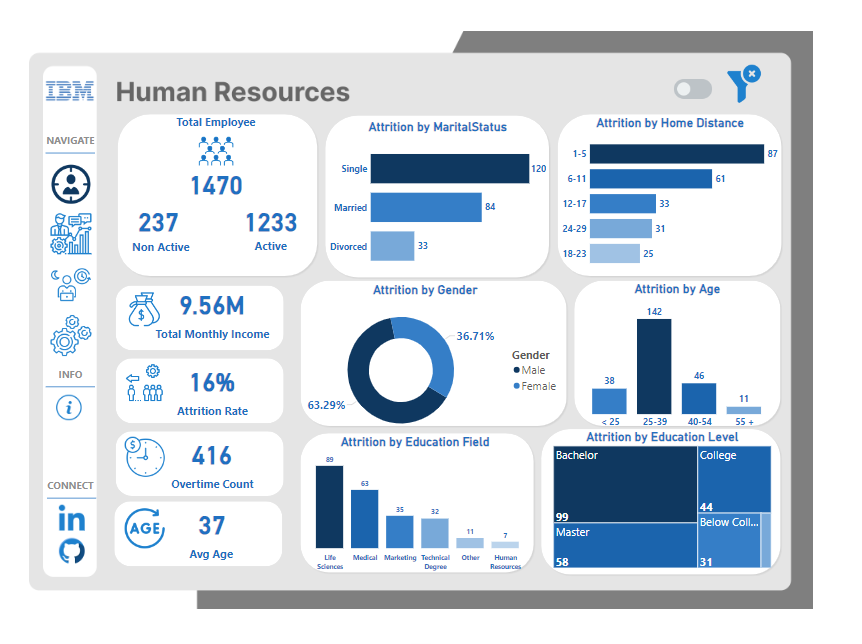

This screenshot's page, from the dashboard's own definition file:
{"tool":"powerbi","page":{"name":"Demographics","canvas":[1900,1400],"ordinal":0},"visuals":[{"type":"shape","box":[1275,197.5,552.5,402.5],"z":0,"group":"g6"},{"type":"shape","box":[210,198.5,493.6,402.5],"z":0,"group":"g1"},{"type":"shape","box":[712.5,200,552.5,402.5],"z":0,"group":"g7"},{"type":"shape","box":[652.5,600.8,655,362.5],"z":0,"group":"g8"},{"type":"shape","box":[1317.5,600.8,510,362.5],"z":0,"group":"g9"},{"type":"shape","box":[210,615.6,407.5,157.5],"z":0,"group":"g2"},{"type":"shape","box":[210,792.5,407.5,157.5],"z":0,"group":"g3"},{"type":"shape","box":[1237.5,960,590,362.5],"z":0},{"type":"shape","box":[210,968.4,407.5,157.5],"z":0,"group":"g4"},{"type":"shape","box":[652.5,970,575,347.5],"z":0,"group":"g10"},{"type":"shape","box":[40,1121,120,25],"z":0,"group":"g11"},{"type":"shape","box":[208,1140.5,407.5,157.5],"z":0,"group":"g5"},{"type":"group","id":"g1","title":"Group 1","box":[210,198,494,404],"z":1000},{"type":"clusteredBarChart","title":"Attrition by Home Distance","fields":{"Y":["Dax_Measure.# Attrition employees"],"Category":["Employee (Fact).Distance from Home Category"]},"box":[1285,205,535,390],"z":1000,"group":"g6"},{"type":"clusteredBarChart","title":"Attrition by MaritalStatus","fields":{"Category":["MaritalStatus (Dim).MaritalStatus"],"Y":["Dax_Measure.# Attrition employees"]},"box":[722.5,212.5,535,390],"z":1000,"group":"g7"},{"type":"card","title":"Employee","fields":{"Values":["Dax_Measure.Total Employees"]},"box":[367.9,318,171.7,98],"z":1000,"group":"g1"},{"type":"clusteredColumnChart","title":"Attrition by Age","fields":{"Category":["Employee (Fact).Age Group"],"Y":["Dax_Measure.# Attrition employees"]},"box":[1317.5,605.8,510,365],"z":1000,"group":"g9"},{"type":"donutChart","title":"Attrition by Gender","fields":{"Y":["Dax_Measure.# Attrition employees"],"Category":["Gender (Dim).Gender"]},"box":[627.5,610.8,667.5,390],"z":1000,"group":"g8"},{"type":"card","fields":{"Values":["Dax_Measure.Total Monthly Income"]},"box":[316.8,612.5,252.5,87.5],"z":1000,"group":"g2"},{"type":"card","fields":{"Values":["Dax_Measure.Attrition Rate"]},"box":[316.8,799.7,252.5,87.5],"z":1000,"group":"g3"},{"type":"clusteredColumnChart","title":"Attrition by Education Field","fields":{"Y":["Dax_Measure.# Attrition employees"],"Category":["EducationField (Dim).EducationField"]},"box":[642.5,975,585,340],"z":1000,"group":"g10"},{"type":"card","fields":{"Values":["Dax_Measure.NoEmployees Working Overtime"]},"box":[316.8,975.6,252.5,87.5],"z":1000,"group":"g4"},{"type":"textbox","box":[35,1081,127.5,60],"z":1000,"group":"g11"},{"type":"card","fields":{"Values":["Dax_Measure.JobSatisfaction"]},"box":[317.1,1147.5,252,87.5],"z":1000,"group":"g5"},{"type":"card","fields":{"Values":["Dax_Measure.# Current employees"]},"box":[498.6,408.5,171.7,98],"z":2000,"group":"g1"},{"type":"group","id":"g2","title":"Group 2","box":[210,612.5,407.5,160.6],"z":2000},{"type":"image","box":[234.2,622.5,92.5,102.5],"z":2000,"group":"g2"},{"type":"textbox","box":[281.8,894.7,322.5,47.5],"z":2000,"group":"g3"},{"type":"textbox","box":[281.8,1070.6,322.5,47.5],"z":2000,"group":"g4"},{"type":"image","box":[40.6,1144.4,120,72.5],"z":2000,"group":"g11"},{"type":"textbox","box":[281.8,1242.7,322.5,47.5],"z":2000,"group":"g5"},{"type":"card","fields":{"Values":["Dax_Measure.# Attrition employees"]},"box":[247.2,408.5,132.8,98],"z":3000,"group":"g1"},{"type":"textbox","box":[281.8,707.5,322.5,47.5],"z":3000,"group":"g2"},{"type":"group","id":"g3","title":"Group 3","box":[210,792.5,407.5,157.5],"z":3000},{"type":"image","box":[227.9,800,105,105],"z":3000,"group":"g3"},{"type":"image","box":[225,972.5,107.5,117.5],"z":3000,"group":"g4"},{"type":"image","box":[227.5,1147.5,107.5,117.5],"z":3000,"group":"g5"},{"type":"image","box":[40.6,1224.4,120,72.5],"z":3000,"group":"g11"},{"type":"textbox","box":[321,198,265.6,70],"z":4000,"group":"g1"},{"type":"group","id":"g4","title":"Group 4","box":[210,968.4,407.5,157.5],"z":4000},{"type":"image","box":[406.8,242,93.8,102],"z":5000,"group":"g1"},{"type":"group","id":"g5","title":"Group 5","box":[208,1140.5,407.5,157.5],"z":5000},{"type":"textbox","box":[241.9,500.5,159.4,70],"z":6000,"group":"g1"},{"type":"treemap","title":"Attrition by Education Level","fields":{"Group":["EducationLevel (Dim).Education_level"],"Values":["Dax_Measure.# Attrition employees"]},"box":[1265,965,537.5,340],"z":6000},{"type":"group","id":"g6","title":"Group 6","box":[1275,197.5,552.5,402.5],"z":7000},{"type":"textbox","box":[521.6,497.5,131,70],"z":7000,"group":"g1"},{"type":"group","id":"g7","title":"Group 7","box":[712.5,200,552.5,402.5],"z":8000},{"type":"group","id":"g8","title":"Group 8","box":[627.5,600.8,680,400],"z":9000},{"type":"group","id":"g9","title":"Group 9","box":[1317.5,600.8,510,370],"z":10000},{"type":"group","id":"g10","title":"Group 10","box":[642.5,970,585,347.5],"z":11000},{"type":"image","box":[36,560.1,130,110],"z":13000},{"type":"image","box":[36,437.7,130,110],"z":14000},{"type":"textbox","box":[35,244,127.5,60],"z":15000},{"type":"shape","box":[40,284,120,25],"z":16000},{"type":"image","box":[36,682.5,130,110],"z":17000},{"type":"shape","box":[40,851,120,25],"z":18000},{"type":"textbox","box":[35,811,127.5,60],"z":19000},{"type":"image","box":[37.5,877.5,120,72],"z":20000},{"type":"group","id":"g11","title":"Group 11","box":[35,1081,127.5,215.9],"z":21000},{"type":"image","box":[1662.5,77.5,140,102.5],"z":22000},{"type":"image","box":[1552.5,65,112.5,147.5],"z":26000},{"type":"image","box":[36,315,130,110],"z":27000}]}

Visuals, with their boxes on the page's 1900x1400 design canvas (x1, y1, x2, y2). These are canvas units, not pixel positions in the 862x644 screenshot, which may show the page scaled, cropped or inside an application window:
shape: rect(1275, 198, 1828, 600)
shape: rect(210, 198, 704, 601)
shape: rect(712, 200, 1265, 602)
shape: rect(652, 601, 1308, 963)
shape: rect(1318, 601, 1828, 963)
shape: rect(210, 616, 618, 773)
shape: rect(210, 792, 618, 950)
shape: rect(1238, 960, 1828, 1322)
shape: rect(210, 968, 618, 1126)
shape: rect(652, 970, 1228, 1318)
shape: rect(40, 1121, 160, 1146)
shape: rect(208, 1140, 616, 1298)
"Group 1" group: rect(210, 198, 704, 602)
"Attrition by Home Distance" clusteredBarChart: rect(1285, 205, 1820, 595)
"Attrition by MaritalStatus" clusteredBarChart: rect(722, 212, 1258, 602)
"Employee" card: rect(368, 318, 540, 416)
"Attrition by Age" clusteredColumnChart: rect(1318, 606, 1828, 971)
"Attrition by Gender" donutChart: rect(628, 611, 1295, 1001)
card - Dax_Measure.Total Monthly Income: rect(317, 612, 569, 700)
card - Dax_Measure.Attrition Rate: rect(317, 800, 569, 887)
"Attrition by Education Field" clusteredColumnChart: rect(642, 975, 1228, 1315)
card - Dax_Measure.NoEmployees Working Overtime: rect(317, 976, 569, 1063)
textbox: rect(35, 1081, 162, 1141)
card - Dax_Measure.JobSatisfaction: rect(317, 1148, 569, 1235)
card - Dax_Measure.# Current employees: rect(499, 408, 670, 506)
"Group 2" group: rect(210, 612, 618, 773)
image: rect(234, 622, 327, 725)
textbox: rect(282, 895, 604, 942)
textbox: rect(282, 1071, 604, 1118)
image: rect(41, 1144, 161, 1217)
textbox: rect(282, 1243, 604, 1290)
card - Dax_Measure.# Attrition employees: rect(247, 408, 380, 506)
textbox: rect(282, 708, 604, 755)
"Group 3" group: rect(210, 792, 618, 950)
image: rect(228, 800, 333, 905)
image: rect(225, 972, 332, 1090)
image: rect(228, 1148, 335, 1265)
image: rect(41, 1224, 161, 1297)
textbox: rect(321, 198, 587, 268)
"Group 4" group: rect(210, 968, 618, 1126)
image: rect(407, 242, 501, 344)
"Group 5" group: rect(208, 1140, 616, 1298)
textbox: rect(242, 500, 401, 570)
"Attrition by Education Level" treemap: rect(1265, 965, 1802, 1305)
"Group 6" group: rect(1275, 198, 1828, 600)
textbox: rect(522, 498, 653, 568)
"Group 7" group: rect(712, 200, 1265, 602)
"Group 8" group: rect(628, 601, 1308, 1001)
"Group 9" group: rect(1318, 601, 1828, 971)
"Group 10" group: rect(642, 970, 1228, 1318)
image: rect(36, 560, 166, 670)
image: rect(36, 438, 166, 548)
textbox: rect(35, 244, 162, 304)
shape: rect(40, 284, 160, 309)
image: rect(36, 682, 166, 792)
shape: rect(40, 851, 160, 876)
textbox: rect(35, 811, 162, 871)
image: rect(38, 878, 158, 950)
"Group 11" group: rect(35, 1081, 162, 1297)
image: rect(1662, 78, 1802, 180)
image: rect(1552, 65, 1665, 212)
image: rect(36, 315, 166, 425)
